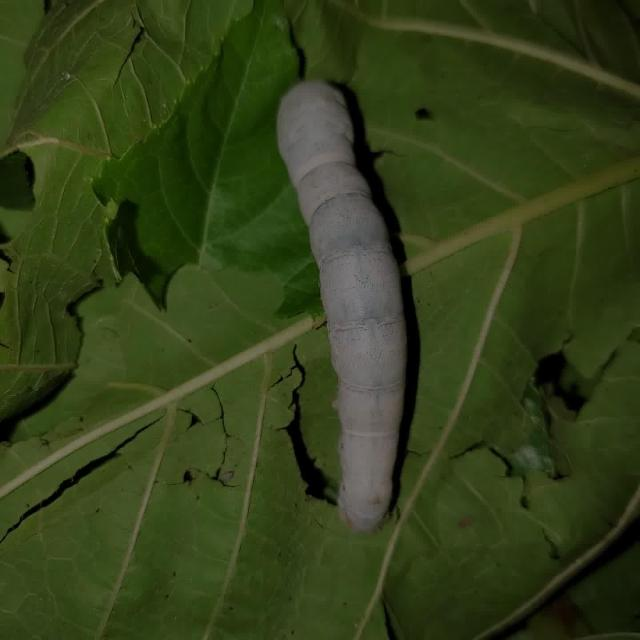Healthy: (249, 38, 463, 550)
